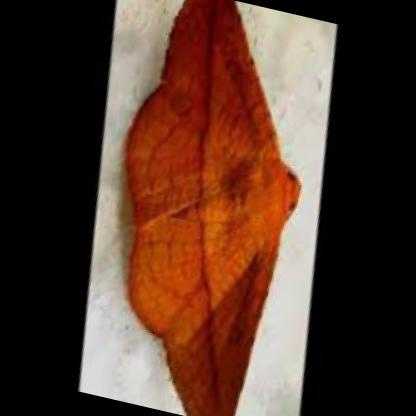Leaf Webber: (125, 0, 305, 416)
